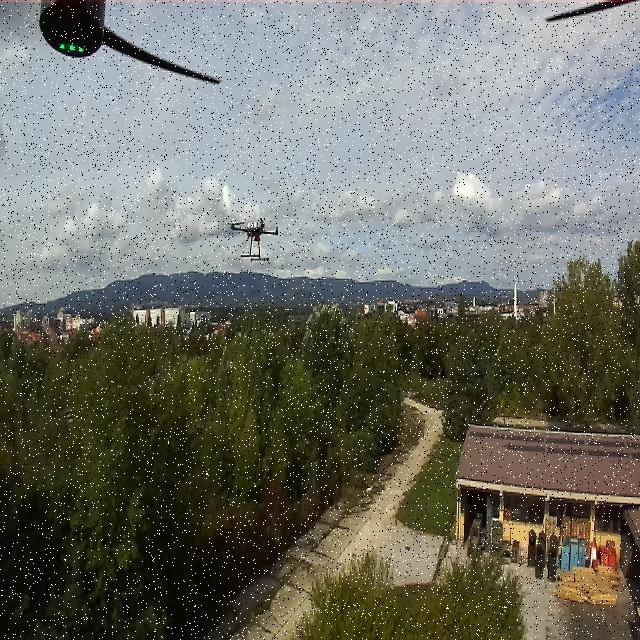UAV: (223, 213, 281, 265)
